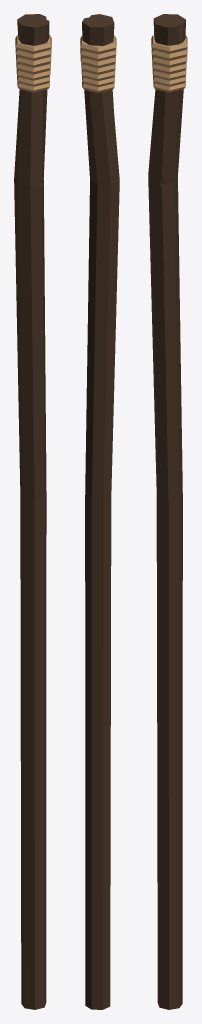
File: Pillar_2.fbx
The picture shows the model from 3 angles, left to right: view 1: azimuth 30°, elevation 25°; view 2: azimuth 150°, elevation 25°; view 3: azimuth 330°, elevation 25°; orthographic projection.
Parts seen in each view (by area): view 1: Pillar_2; view 2: Pillar_2; view 3: Pillar_2.
Part boxes in pixels (left/top/right/bottom): Pillar_2: left=14, top=14, right=51, bottom=1009; Pillar_2: left=80, top=14, right=119, bottom=1009; Pillar_2: left=148, top=14, right=187, bottom=1009.
Bounding box in the file's own units: 29.69 × 34.52 × 883.
